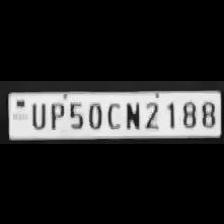0: (84, 100, 104, 128)
1: (162, 98, 178, 130)
2: (142, 98, 162, 130)
5: (64, 98, 84, 130)
8: (178, 97, 198, 128), (197, 97, 217, 128)
C: (104, 99, 120, 129)
N: (121, 98, 141, 130)
P: (46, 99, 64, 129)
U: (26, 100, 48, 128)
